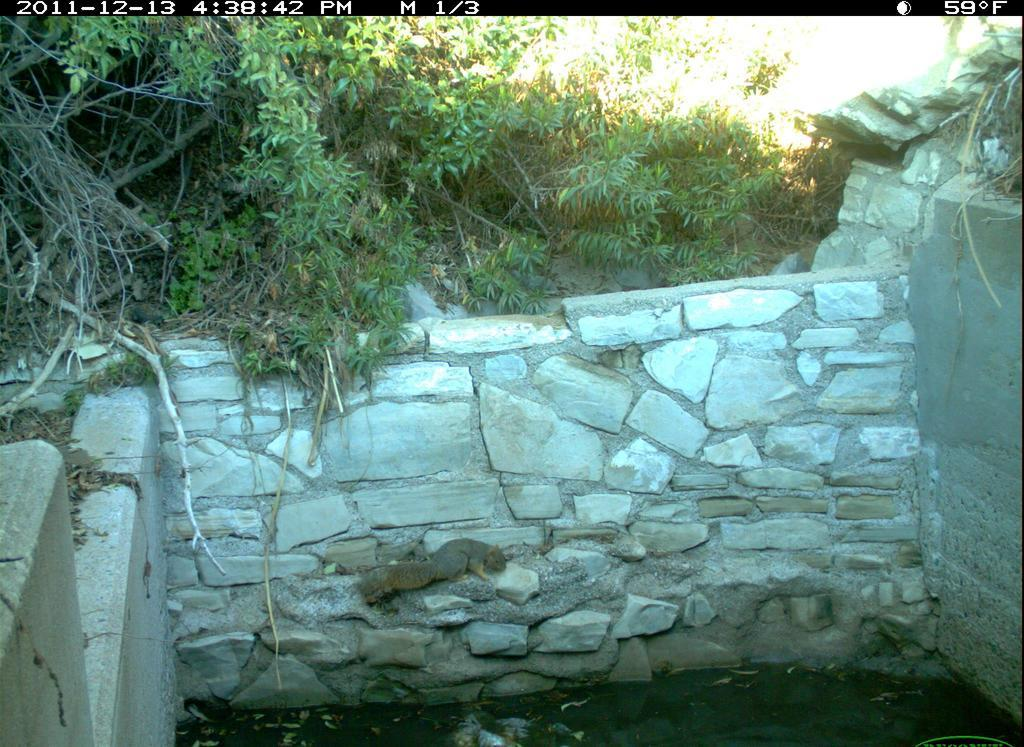squirrel: (332, 530, 524, 611)
